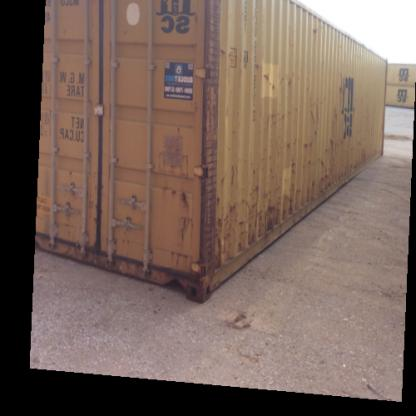Damage: (205, 183, 286, 270), (202, 7, 232, 158), (162, 215, 199, 265), (301, 156, 335, 201), (254, 61, 297, 88), (260, 104, 300, 127), (161, 180, 195, 206), (308, 103, 324, 136), (216, 162, 240, 182), (354, 134, 370, 160), (326, 134, 350, 150), (334, 72, 347, 92), (284, 135, 295, 154), (65, 163, 76, 180), (308, 20, 320, 35), (299, 138, 317, 148), (287, 160, 298, 174), (331, 103, 340, 117)
